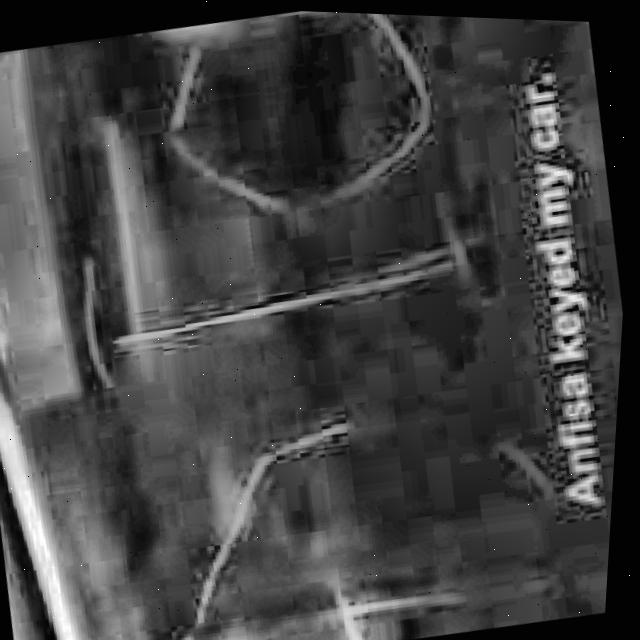door_scratch: (61, 3, 474, 436), (150, 376, 588, 640)
